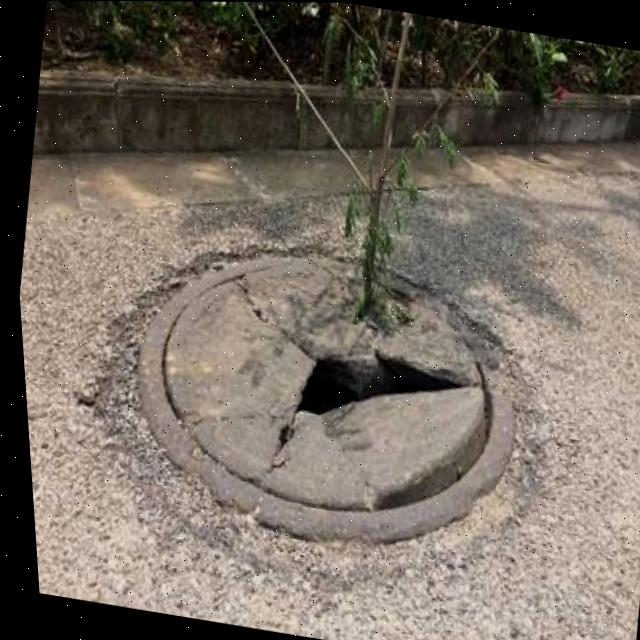manhole: (86, 201, 552, 577)
